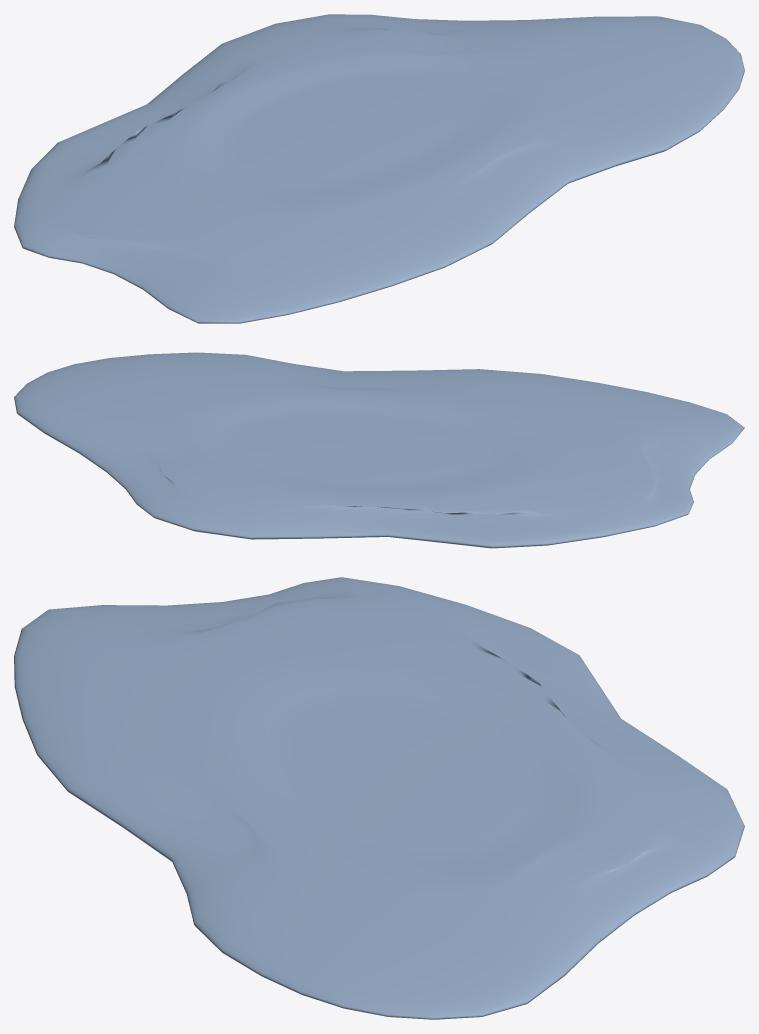
The model's file is pond.fbx.
3 renders of one model, top to bottom at view 1: azimuth 30°, elevation 25°; view 2: azimuth 150°, elevation 25°; view 3: azimuth 270°, elevation 25°, orthographic. The views are drawn at different scales.
Parts seen in each view (by area): view 1: pSphere1; view 2: pSphere1; view 3: pSphere1.
Boxes of the visible parts, x1,y1,x2,y2 form: pSphere1: (14,14,744,323); pSphere1: (14,352,744,548); pSphere1: (14,577,744,1019).
Bounding box in the file's own units: 2.6 × 0.0935 × 1.82.
